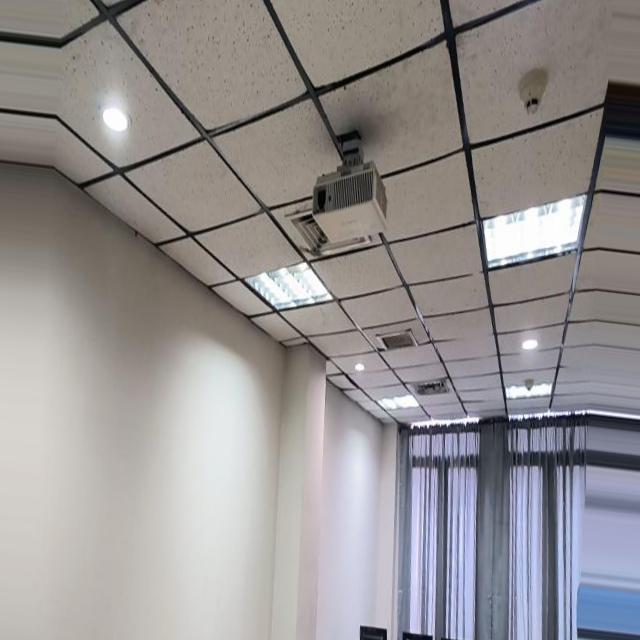Light: (503, 194, 621, 262), (231, 275, 331, 315), (540, 350, 593, 366), (392, 372, 440, 388), (55, 167, 85, 185), (557, 315, 574, 325), (363, 350, 375, 358)
Monitor: (533, 594, 588, 639), (463, 590, 513, 639), (348, 586, 387, 639), (436, 565, 472, 613), (401, 587, 446, 625), (482, 567, 522, 607), (386, 565, 419, 601), (534, 568, 577, 593), (395, 622, 458, 639), (305, 620, 357, 639)
Projector: (304, 169, 392, 259)
